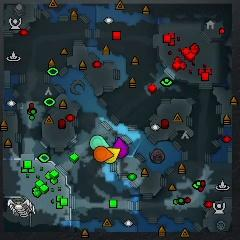p1: (116, 137, 129, 158)
p2: (90, 136, 110, 151)
p3: (113, 137, 128, 160)
p4: (105, 147, 120, 163)
p5: (94, 146, 114, 162)
